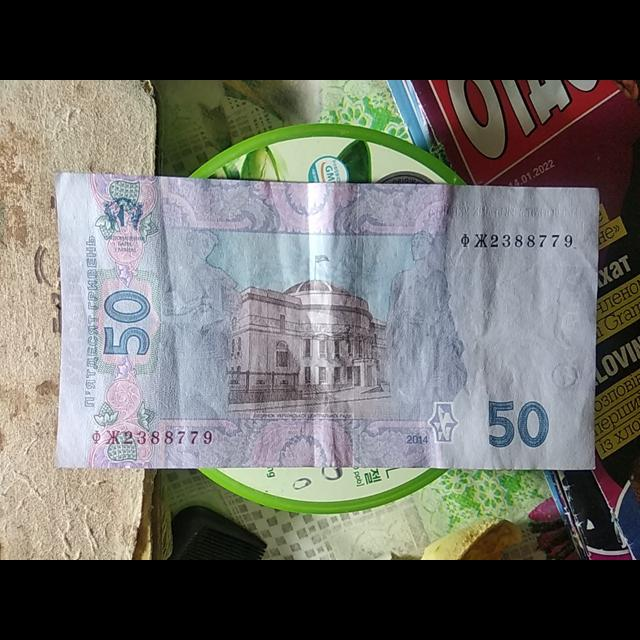50uah: (53, 178, 591, 476)
